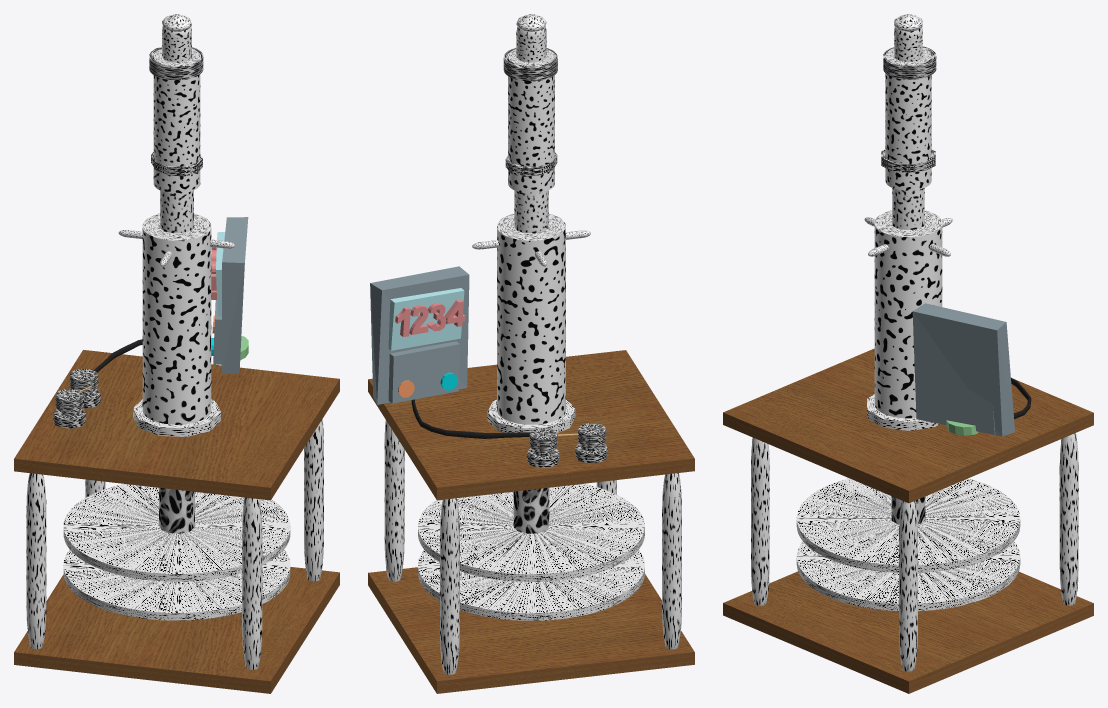
File: Main6.glb
The picture shows the model from 3 angles, left to right: view 1: azimuth 30°, elevation 25°; view 2: azimuth 150°, elevation 25°; view 3: azimuth 270°, elevation 25°; orthographic projection.
Parts seen in each view (by area): view 1: 026_Box_1, 027_Box, 007_Cylinder_1, 024_Tube_1, 006_Cylinder, 022_Tube_2, 028_Buffer_Layer, 010_Capsule_7, 009_Capsule_8, 023_Capsule_6, 021_Tube_5, 025_Tube (+6 smaller); view 2: 026_Box_1, 027_Box, 007_Cylinder_1, 024_Tube_1, 006_Cylinder, 028_Buffer_Layer, 022_Tube_2, 008_Capsule_9, 010_Capsule_7, 023_Capsule_6, 029_Buffer_Layer, 021_Tube_5 (+8 smaller); view 3: 026_Box_1, 027_Box, 007_Cylinder_1, 028_Buffer_Layer, 024_Tube_1, 006_Cylinder, 022_Tube_2, 008_Capsule_9, 023_Capsule_6, 009_Capsule_8, 011_Capsule_4, 018_Capsule_5 (+3 smaller).
Part boxes in pixels (left/top/right/bottom): 026_Box_1: left=14, top=350, right=339, bottom=500; 027_Box: left=14, top=567, right=339, bottom=693; 007_Cylinder_1: left=63, top=484, right=290, bottom=581; 024_Tube_1: left=142, top=213, right=211, bottom=424; 006_Cylinder: left=63, top=549, right=290, bottom=620; 022_Tube_2: left=153, top=49, right=200, bottom=193; 028_Buffer_Layer: left=213, top=217, right=248, bottom=373; 010_Capsule_7: left=26, top=473, right=46, bottom=649; 009_Capsule_8: left=242, top=497, right=262, bottom=669; 023_Capsule_6: left=304, top=419, right=323, bottom=581; 021_Tube_5: left=159, top=488, right=194, bottom=533; 025_Tube: left=133, top=399, right=220, bottom=436; 026_Box_1: left=368, top=350, right=694, bottom=500; 027_Box: left=368, top=567, right=694, bottom=693; 007_Cylinder_1: left=418, top=484, right=644, bottom=581; 024_Tube_1: left=497, top=213, right=565, bottom=424; 006_Cylinder: left=418, top=550, right=644, bottom=620; 028_Buffer_Layer: left=370, top=266, right=469, bottom=404; 022_Tube_2: left=508, top=49, right=554, bottom=193; 008_Capsule_9: left=440, top=498, right=459, bottom=674; 010_Capsule_7: left=662, top=473, right=681, bottom=649; 023_Capsule_6: left=384, top=420, right=404, bottom=581; 029_Buffer_Layer: left=388, top=288, right=464, bottom=350; 021_Tube_5: left=513, top=487, right=549, bottom=533; 026_Box_1: left=723, top=348, right=1093, bottom=503; 027_Box: left=723, top=571, right=1093, bottom=693; 007_Cylinder_1: left=796, top=478, right=1020, bottom=572; 028_Buffer_Layer: left=912, top=303, right=1014, bottom=436; 024_Tube_1: left=874, top=210, right=942, bottom=418; 006_Cylinder: left=796, top=541, right=1020, bottom=611; 022_Tube_2: left=885, top=48, right=931, bottom=190; 008_Capsule_9: left=1059, top=433, right=1078, bottom=605; 023_Capsule_6: left=899, top=500, right=917, bottom=671; 009_Capsule_8: left=751, top=437, right=769, bottom=605; 011_Capsule_4: left=892, top=188, right=924, bottom=229; 018_Capsule_5: left=894, top=14, right=922, bottom=61.
Bounding box in the file's own units: 282 × 505 × 282.
37 materials, 7 textured.
